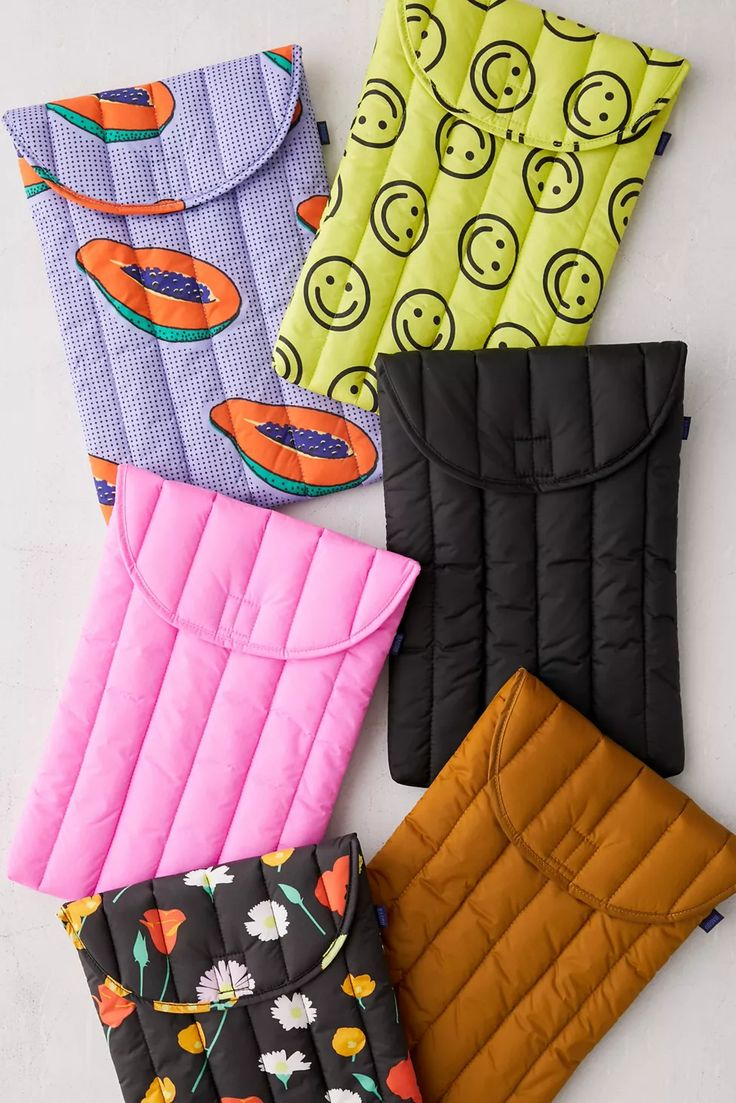nylon: (2, 1, 736, 1103)
